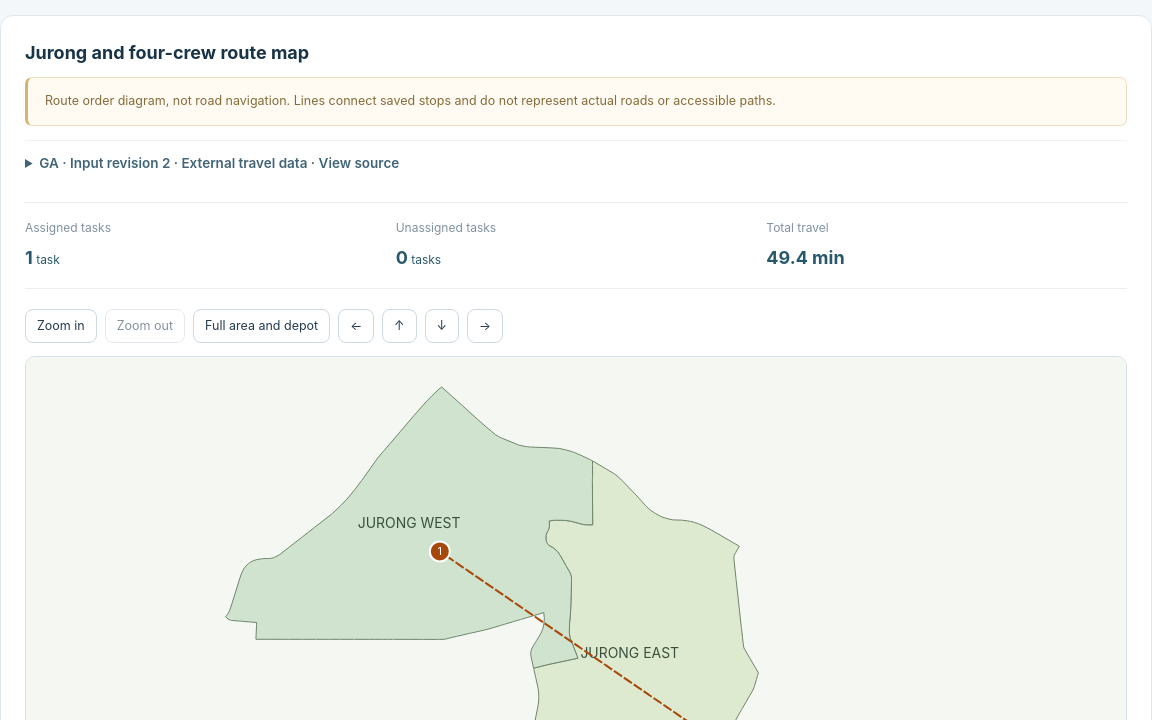
Test case: distinguishes external travel data in the collapsed summary and preserves full provenance
The image size is (1152, 720).
Step 1. Click the heading "GA · Input revision 2 · External travel data · View source" → (219, 163), box x1=39 y1=155 x2=399 y2=171
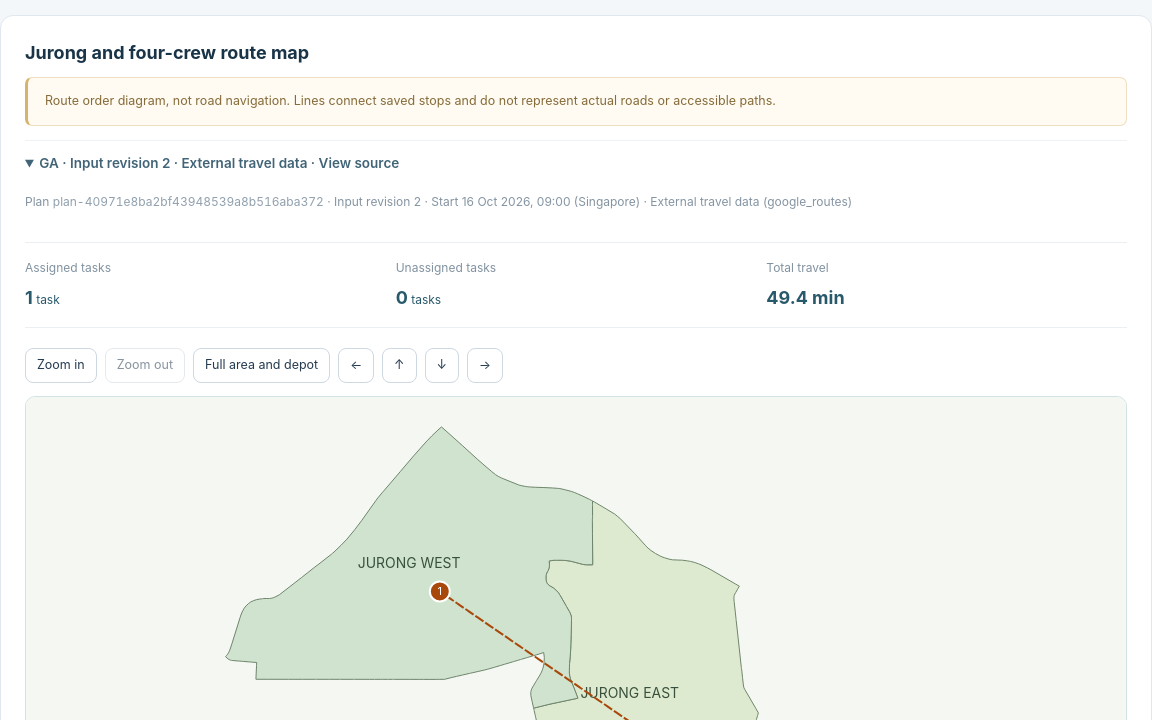
Check: the text "not road navigation" is shown, box x1=45 y1=93 x2=776 y2=108
Check: the text "google_routes" is shown, box x1=767 y1=194 x2=848 y2=209
Check: the text "plan-40971e8ba2bf43948539a8b516aba372" is shown, box x1=53 y1=194 x2=324 y2=209
